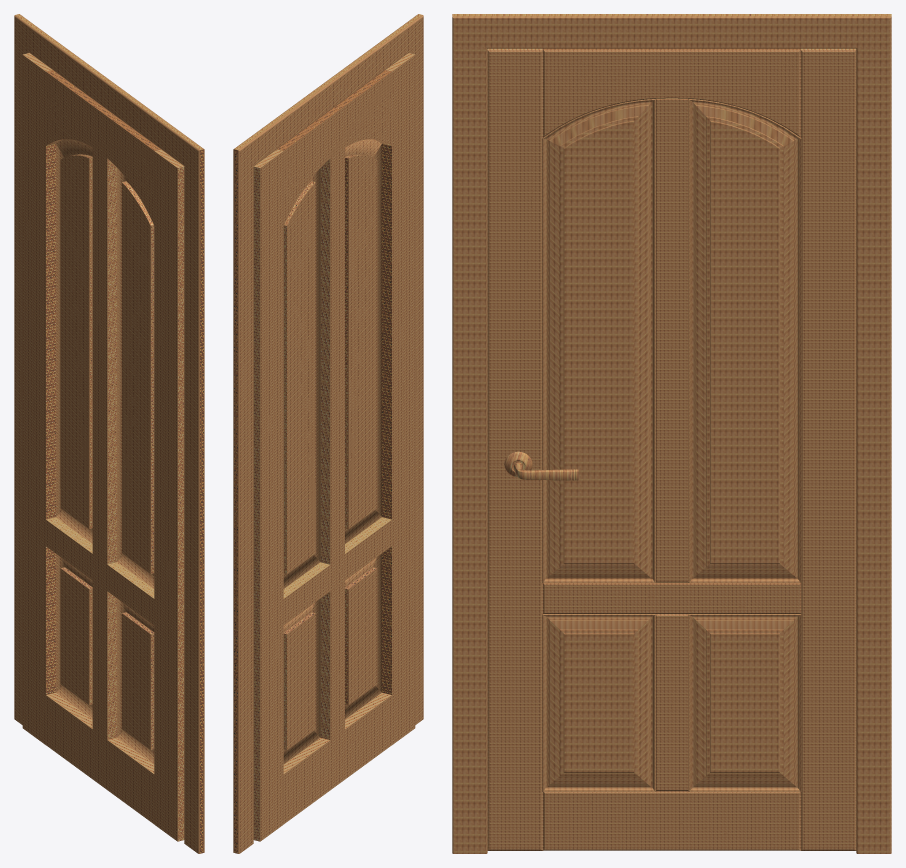
The model's file is toilet_door.obj.
The picture shows the model from 3 angles, left to right: view 1: azimuth 30°, elevation 25°; view 2: azimuth 150°, elevation 25°; view 3: azimuth 270°, elevation 25°; orthographic projection. The views are drawn at different scales.
Parts seen in each view (by area): view 1: frise11_z_.001; view 2: frise11_z_.001; view 3: frise11_z_.001.
Part boxes in pixels (x1,y1,x2,y2): frise11_z_.001: [14, 14, 204, 853]; frise11_z_.001: [233, 14, 423, 853]; frise11_z_.001: [452, 14, 891, 853].
Bounding box in the file's own units: 0.1357 × 2.58 × 1.23.
Materials: 1 (1 with a texture image).
